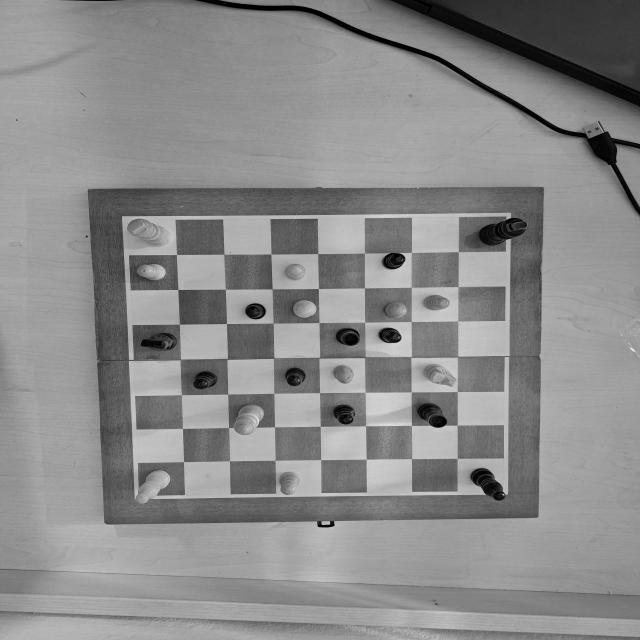chess-table-corners: (125, 486, 154, 504), (115, 212, 142, 229), (492, 208, 519, 224), (490, 484, 514, 499)
